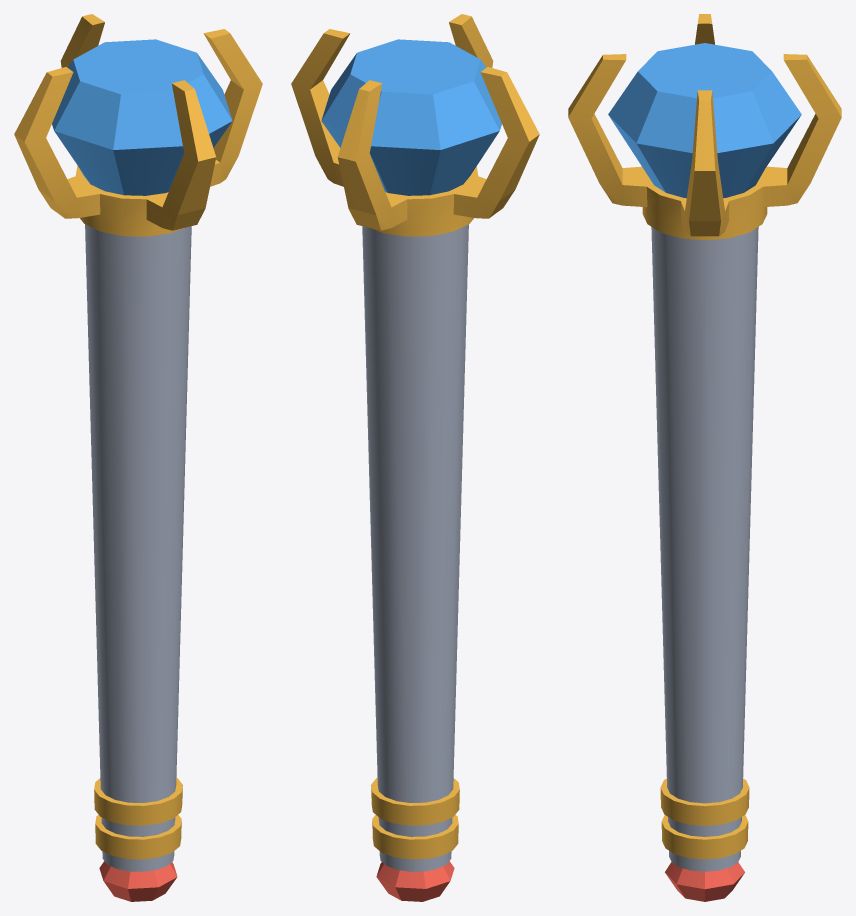
Rendered from Stick C Multi.fbx.
The picture shows the model from 3 angles, left to right: view 1: azimuth 30°, elevation 25°; view 2: azimuth 150°, elevation 25°; view 3: azimuth 270°, elevation 25°; orthographic projection.
Visible parts, largest first — view 1: Stick C; view 2: Stick C; view 3: Stick C.
Boxes of the visible parts, box(x1,y1,x2,y2) form: Stick C: box(14, 14, 262, 901); Stick C: box(291, 14, 539, 901); Stick C: box(568, 14, 841, 901).
Size of the model in its own units: 0.425 by 1.43 by 0.425.
